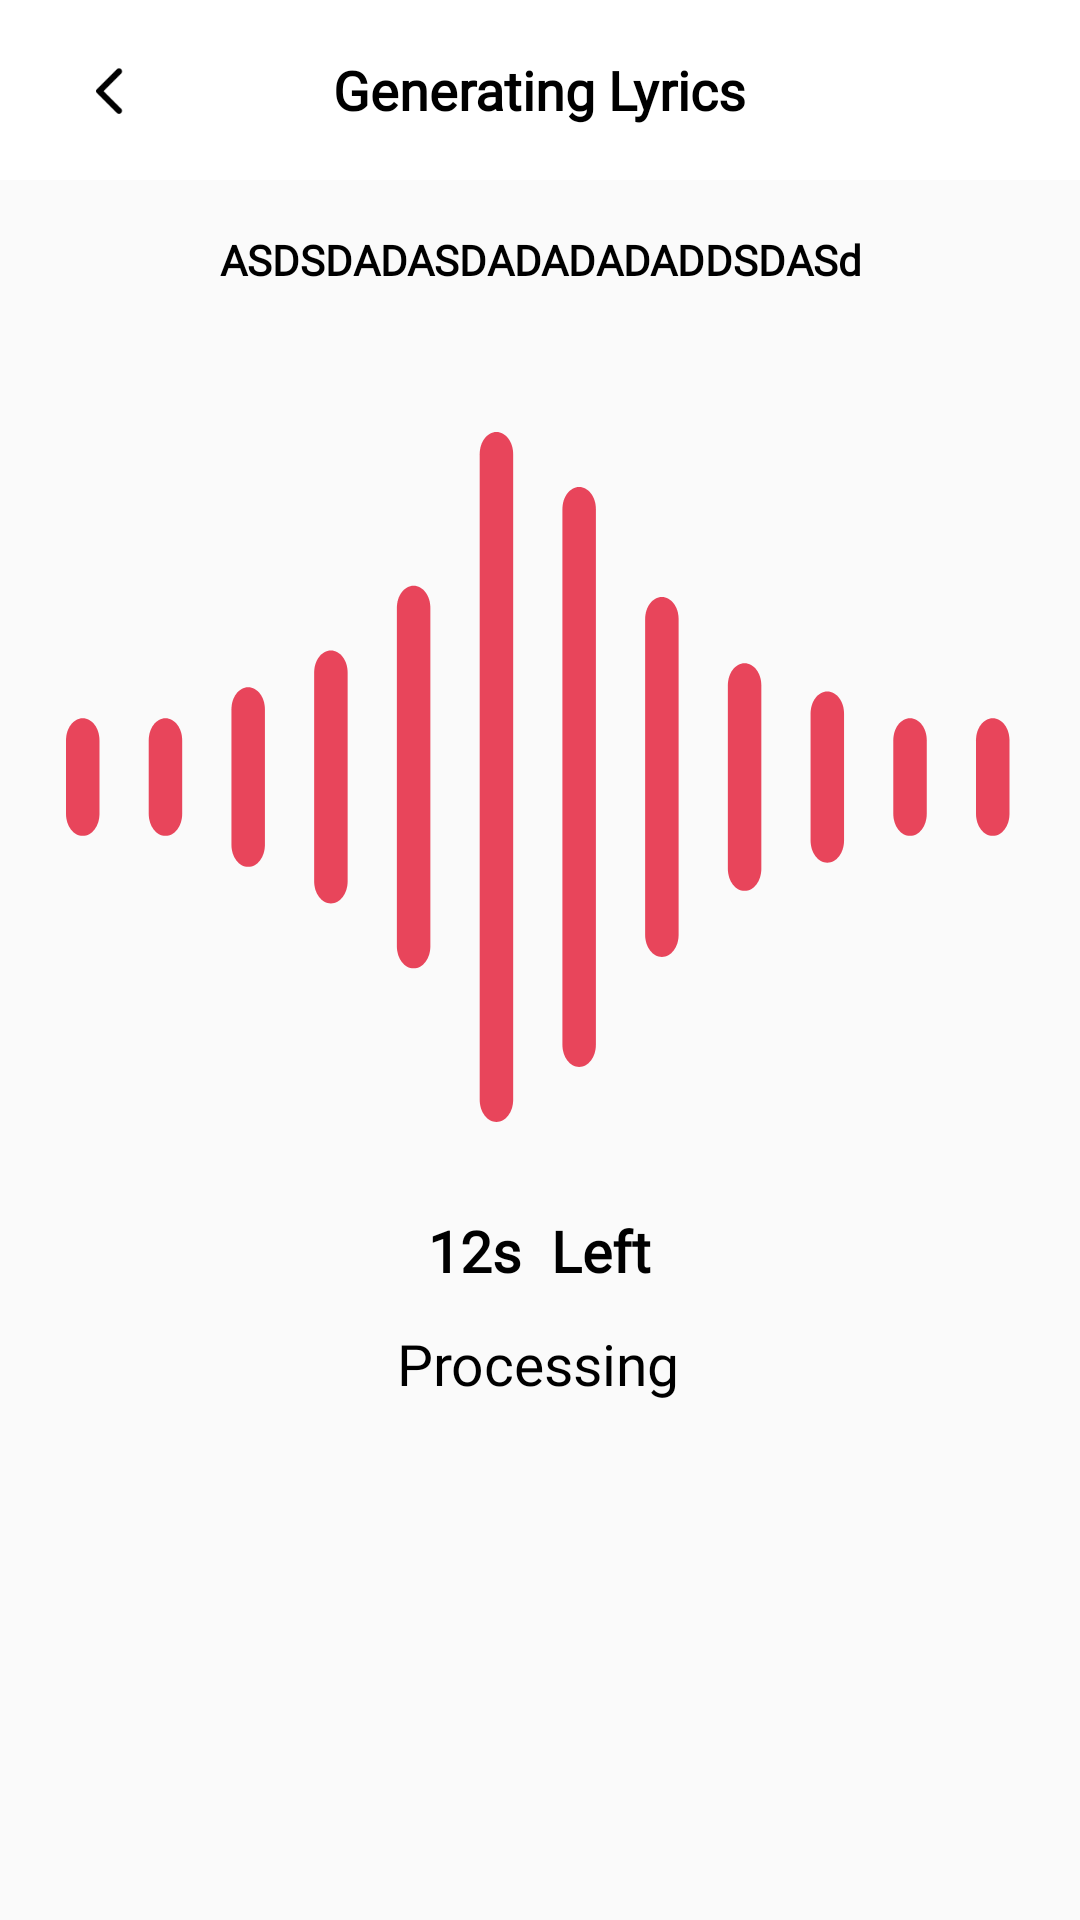

Screen size 1080px x 1920px. Icon name, then its center in pixels as [x,y]:
back: [109,91]
